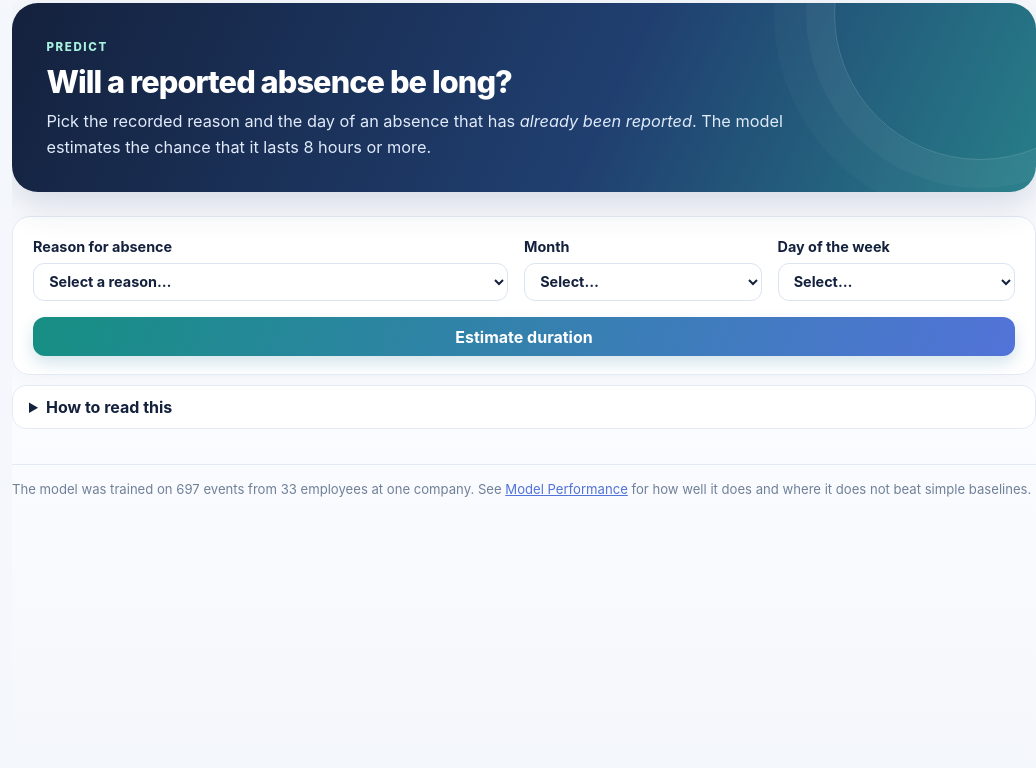
Scenario: Predict page › displays server-side validation errors clearly
Select "23 – Medical consultation" in the dropdown labelled "Reason for absence" at (270, 282), box x1=33 y1=263 x2=508 y2=301
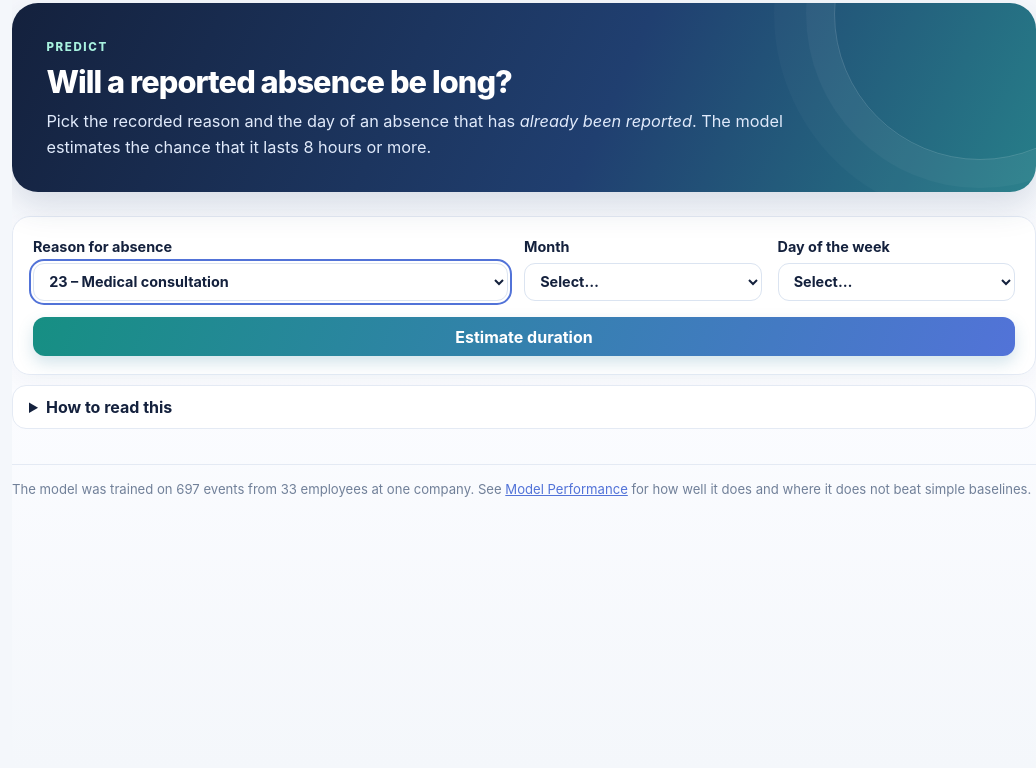
Select "July" in the dropdown labelled "Month" at (643, 282), box x1=524 y1=263 x2=762 y2=301
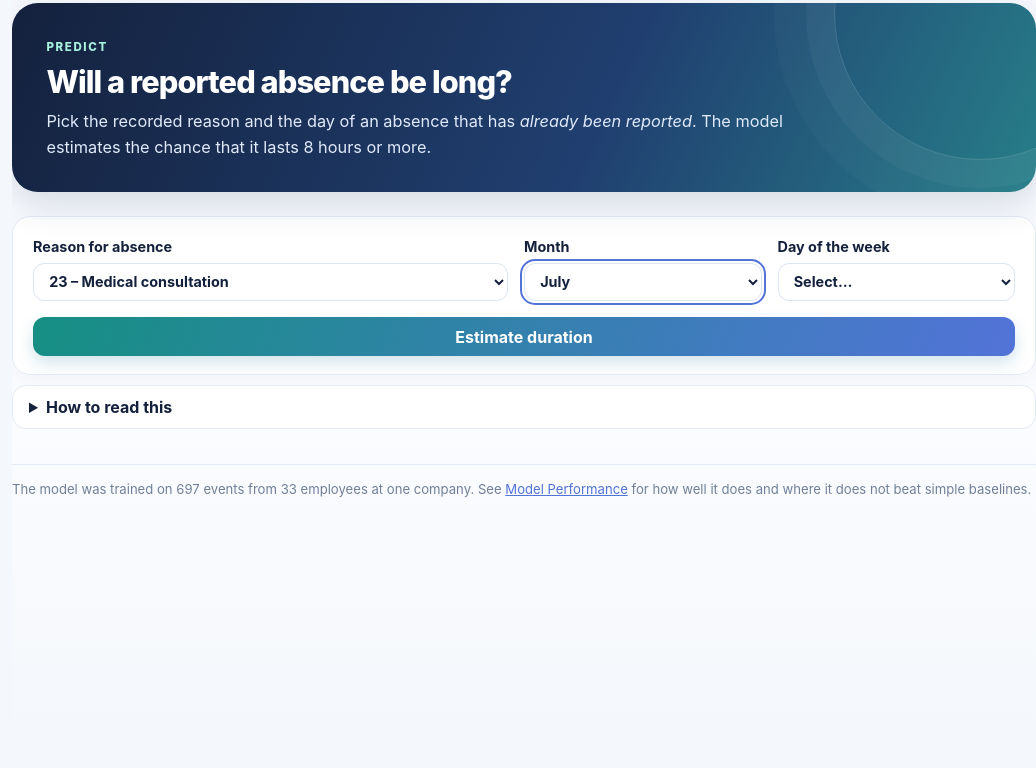
Select "Tuesday" in the dropdown labelled "Day of the week" at (896, 282), box x1=778 y1=263 x2=1015 y2=301
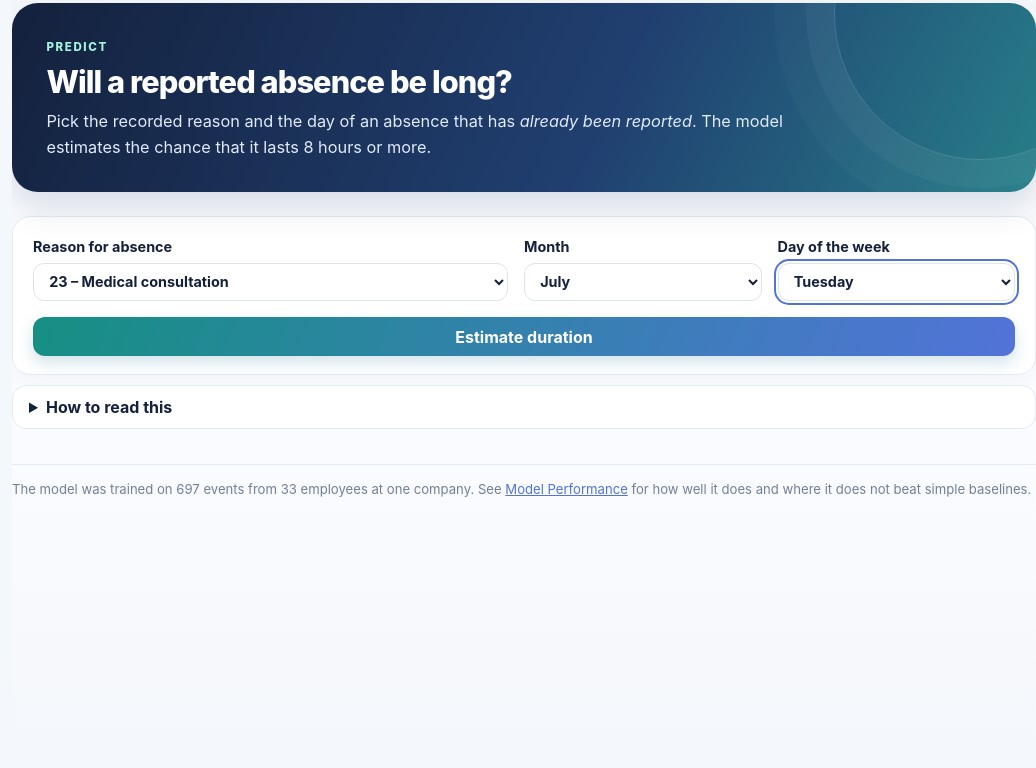
Click the button "Estimate duration" at (524, 337), box x1=33 y1=317 x2=1015 y2=356
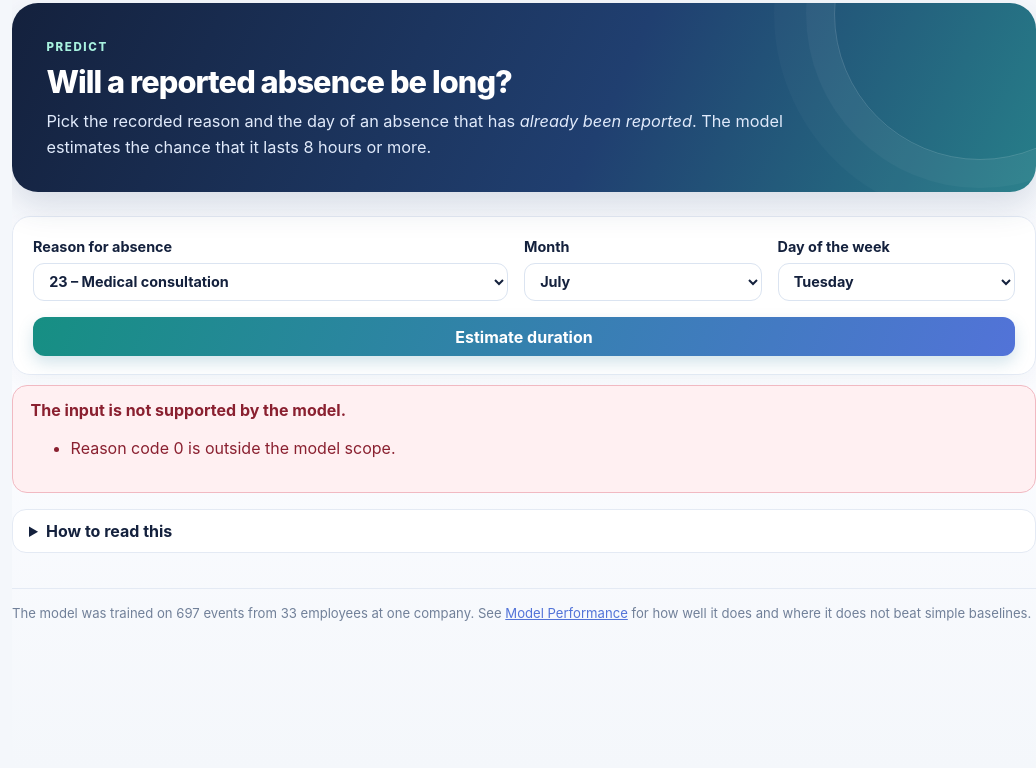
Check: the message shows "not supported by the model", box x1=31 y1=400 x2=346 y2=420
Check: the message shows "outside the model scope", box x1=71 y1=438 x2=396 y2=458
